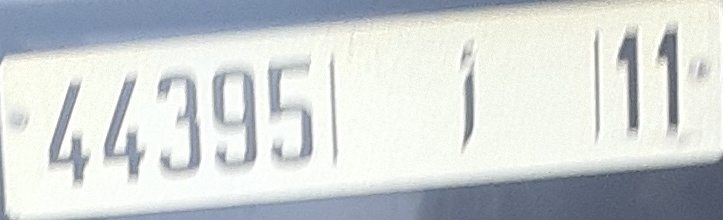1: (614, 24, 647, 139), (656, 22, 687, 137)
3: (151, 72, 205, 181)
4: (43, 75, 96, 186), (101, 72, 150, 181)
5: (263, 53, 320, 167)
9: (207, 66, 258, 175)
a: (452, 32, 483, 152)
